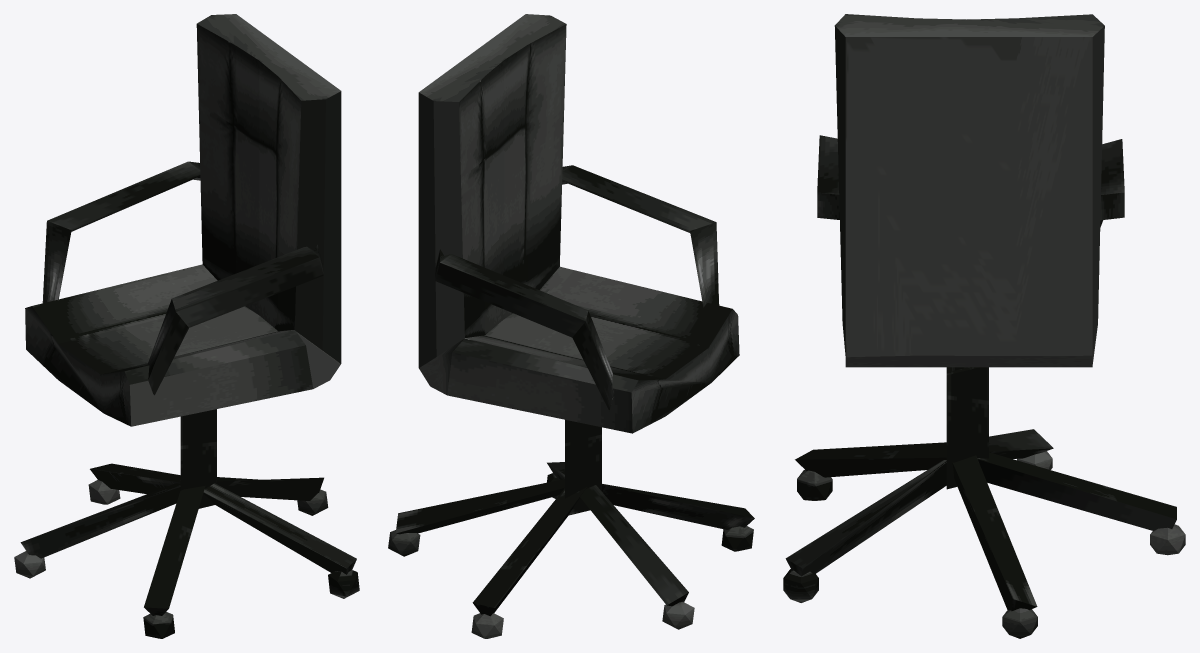
File: officechairpsx.fbx
3 renders of one model, left to right at view 1: azimuth 30°, elevation 25°; view 2: azimuth 150°, elevation 25°; view 3: azimuth 270°, elevation 25°, orthographic. The views are drawn at different scales.
Parts seen in each view (by area): view 1: Cylinder; view 2: Cylinder; view 3: Cylinder.
Boxes of the visible parts, x1,y1,x2,y2 form: Cylinder: [14, 14, 359, 638]; Cylinder: [388, 14, 754, 638]; Cylinder: [783, 14, 1185, 638].
Size of the model in its own units: 333 by 514 by 326.
